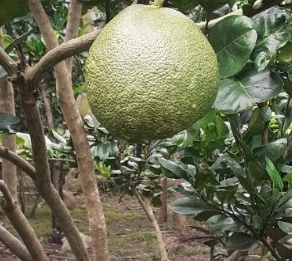Buoi: (66, 4, 224, 136)
